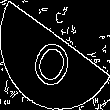O_NE: (29, 22, 81, 88)
